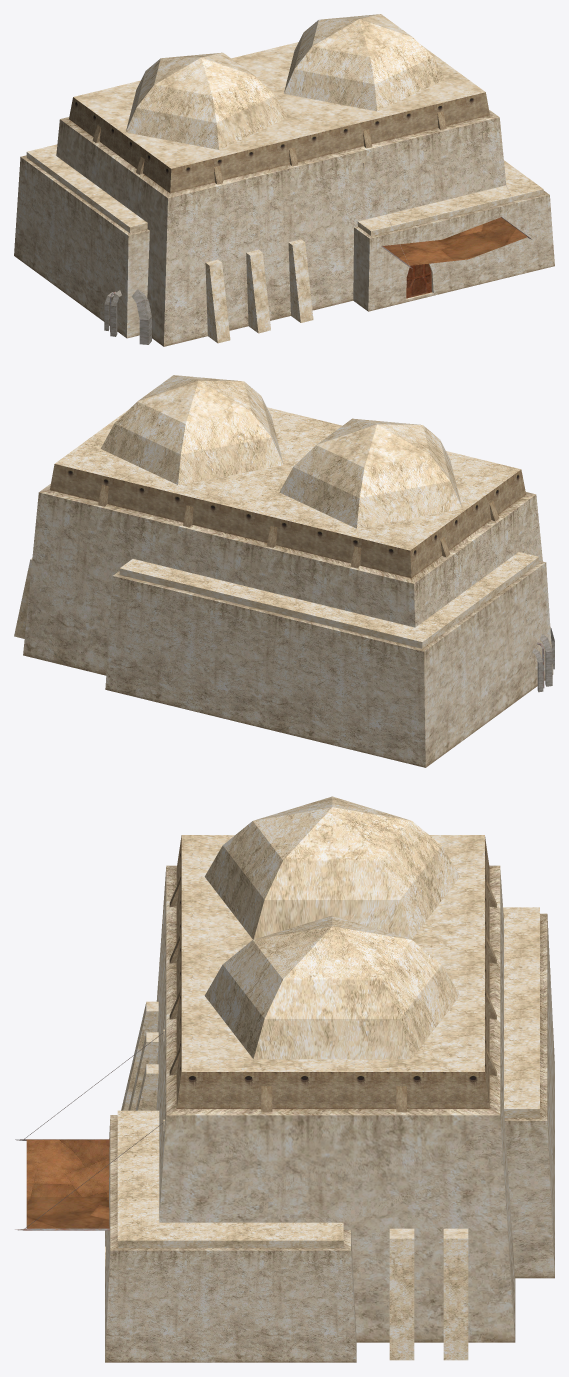
Rendered from thm_tato_imprv_building_s03_l2.fbx.
3 views of the same model, one above another, from view 1: azimuth 30°, elevation 25°; view 2: azimuth 150°, elevation 25°; view 3: azimuth 270°, elevation 25° (orthographic). The views are drawn at different scales.
Visible parts, largest first — view 1: mesh_node; view 2: mesh_node; view 3: mesh_node.
Part boxes in pixels (left/top/right/bottom): mesh_node: left=14, top=14, right=554, bottom=346; mesh_node: left=14, top=375, right=554, bottom=767; mesh_node: left=15, top=796, right=554, bottom=1362.
Size of the model in its own units: 32.28 by 17.22 by 24.3.
4 materials, 4 textured.
